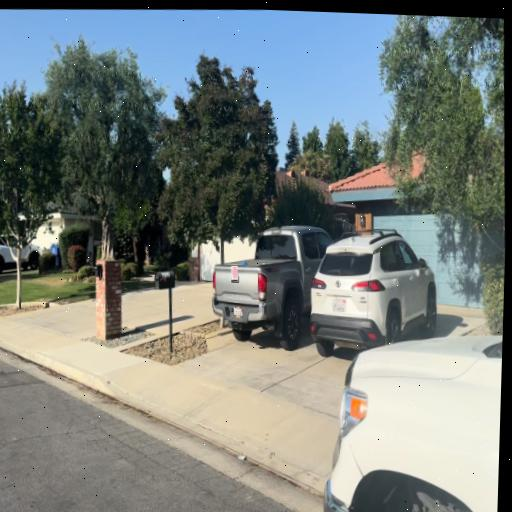bullseye: (231, 266, 238, 279)
